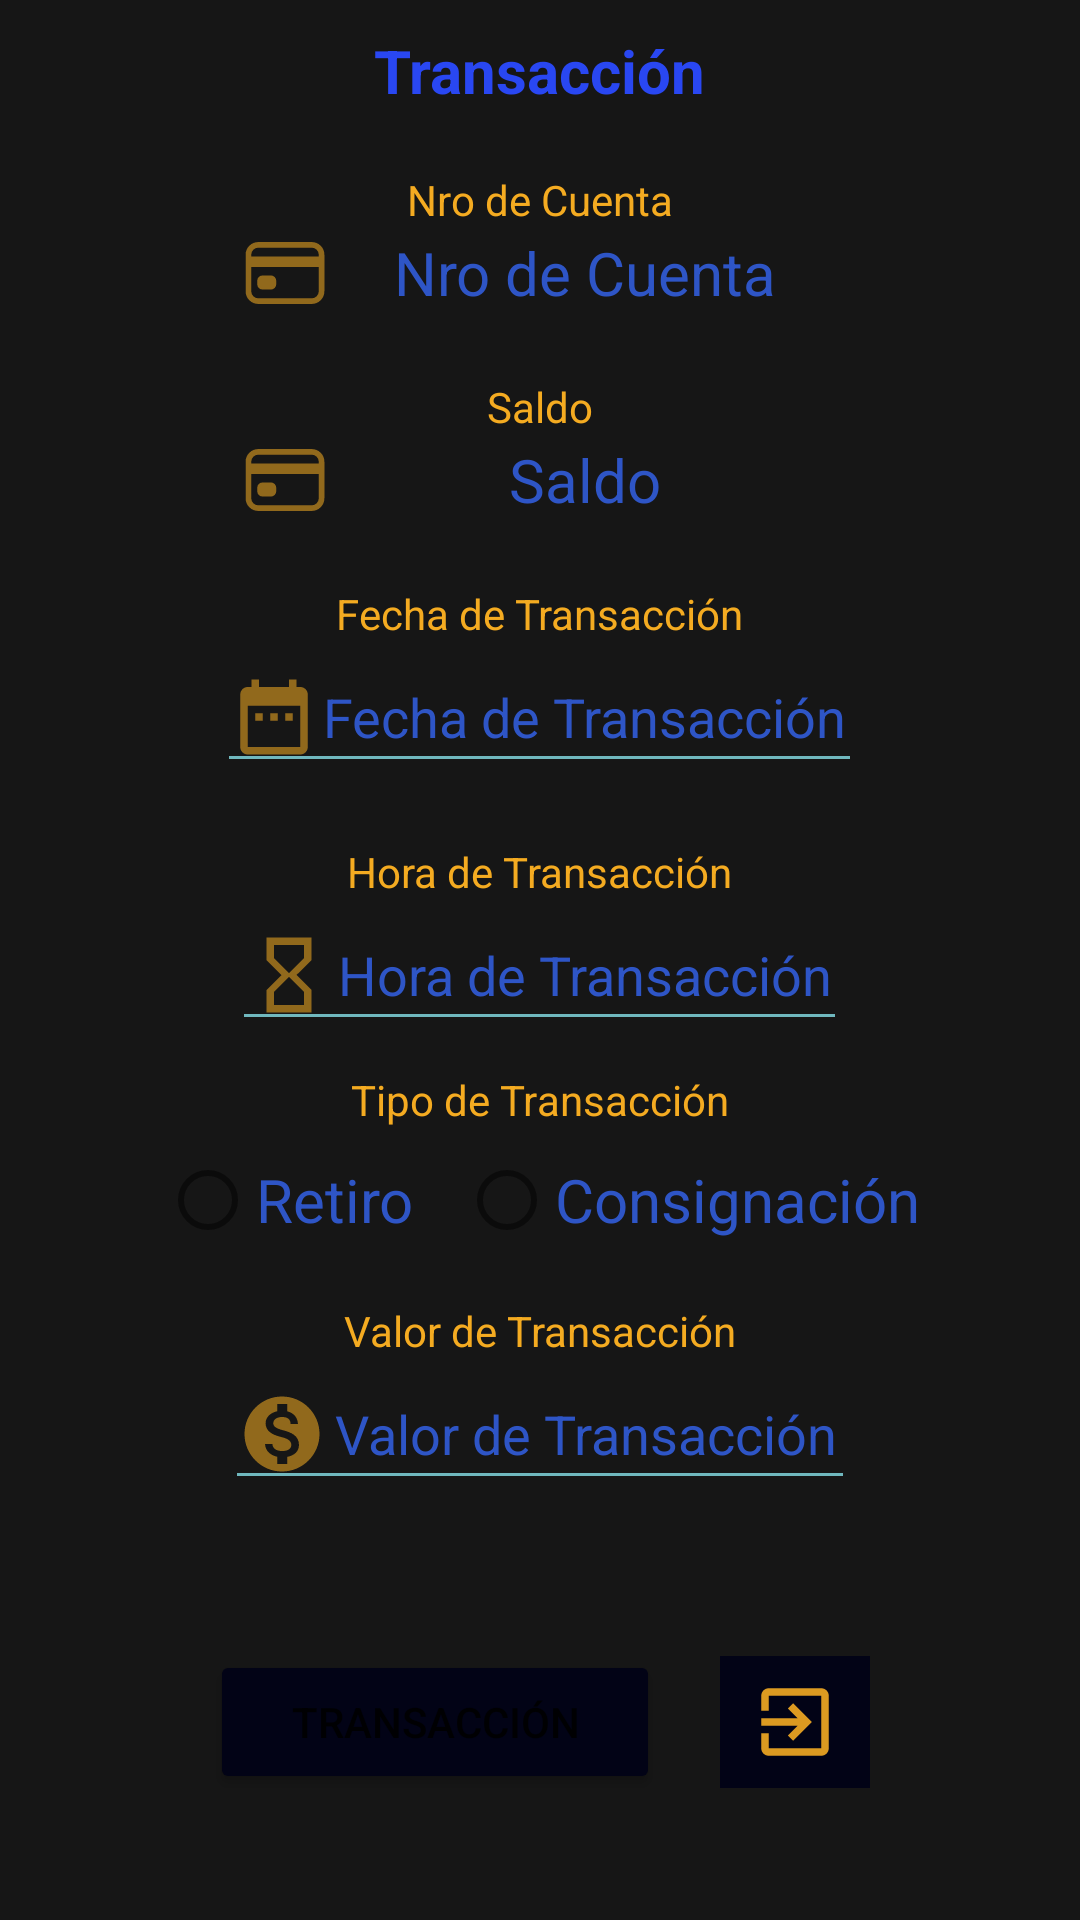

Screen size 1080px×1920px. Icon name, then its center in pixels as point (x, y):
exit to app: point (795, 1722)
